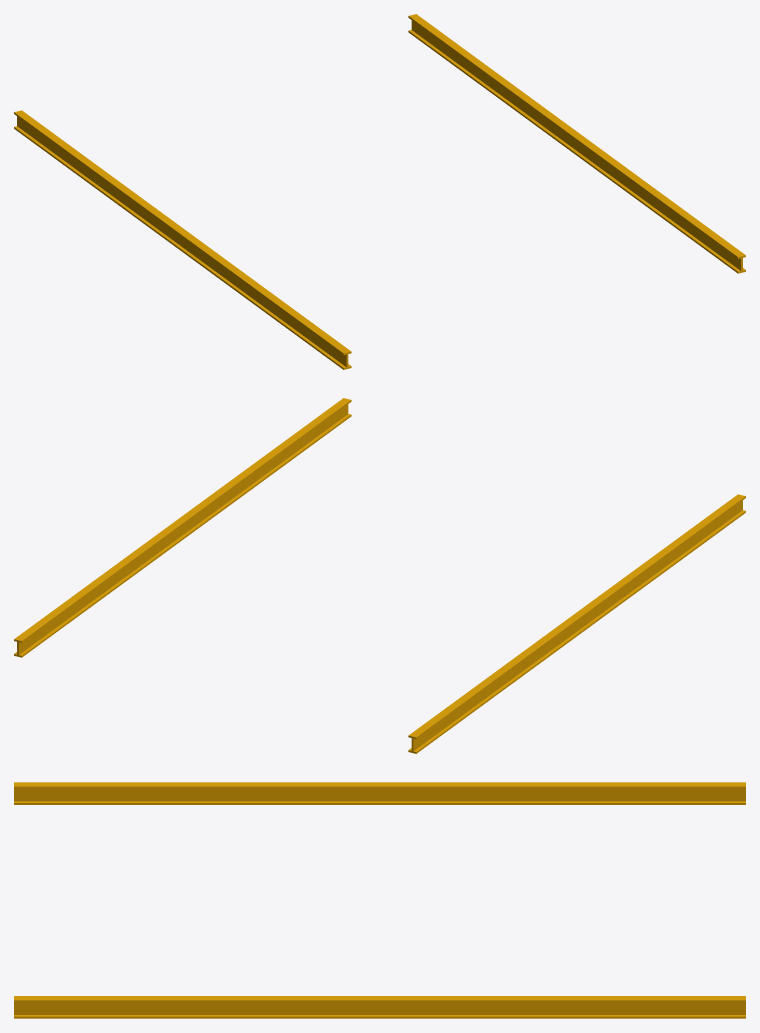
Rendered from CraneBridge_50ft.fbx.
3 views of the same model, one above another, from view 1: azimuth 30°, elevation 25°; view 2: azimuth 150°, elevation 25°; view 3: azimuth 270°, elevation 25° (orthographic). The views are drawn at different scales.
Visible parts, largest first — view 1: CraneBridge_50ft; view 2: CraneBridge_50ft; view 3: CraneBridge_50ft.
Boxes of the visible parts, x1,y1,x2,y2 form: CraneBridge_50ft: (14, 14, 745, 369); CraneBridge_50ft: (14, 398, 745, 753); CraneBridge_50ft: (14, 782, 745, 1018).
Bounding box in the file's own units: 1554 × 60.97 × 2206.
